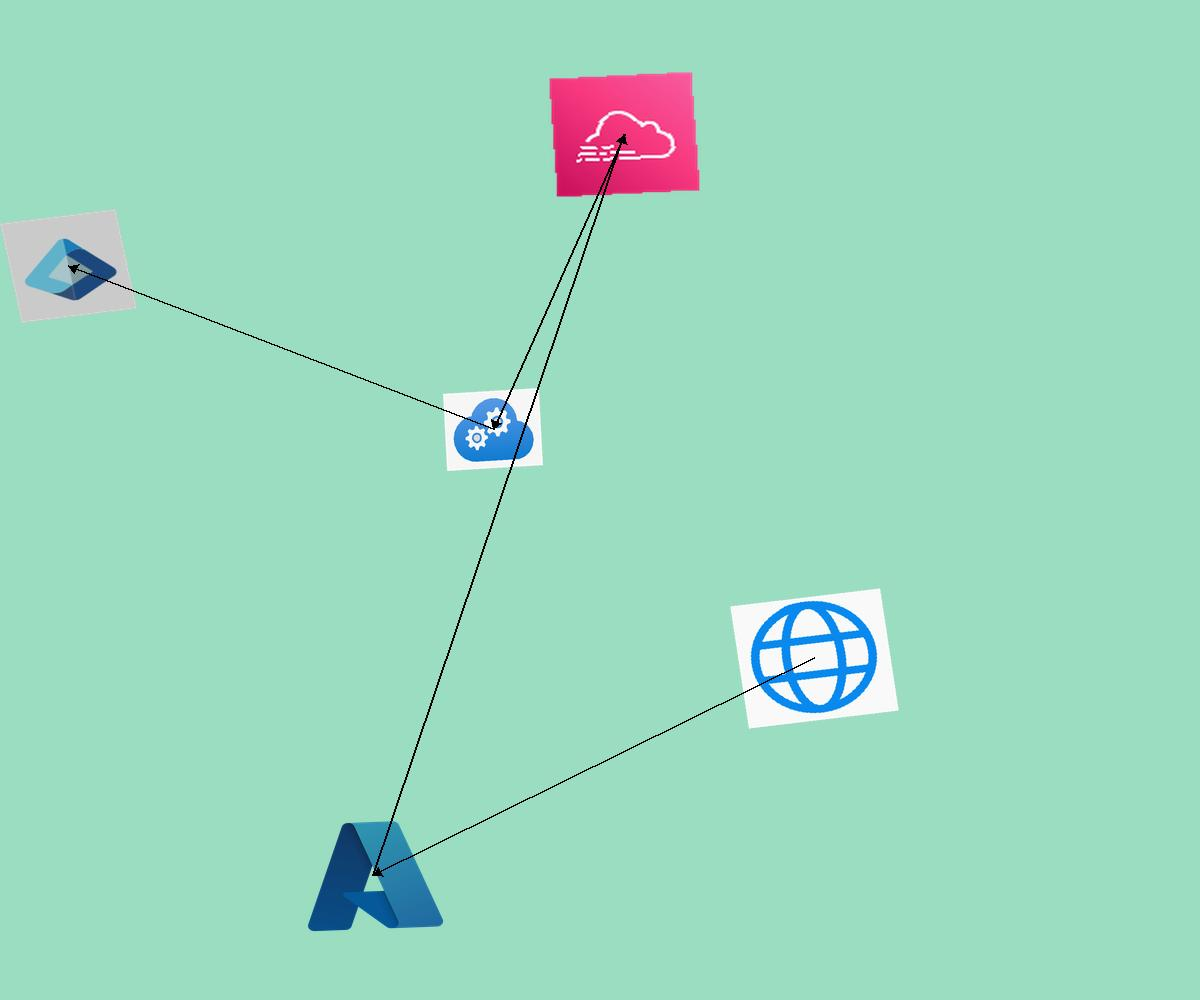AWS-CloudTrail: (548, 71, 701, 198)
Azure_cloud_services: (443, 388, 543, 471)
Azure_http: (730, 588, 899, 729)
Azure_microsoft_entra: (0, 209, 137, 323)
Azure_services: (296, 811, 450, 940)
